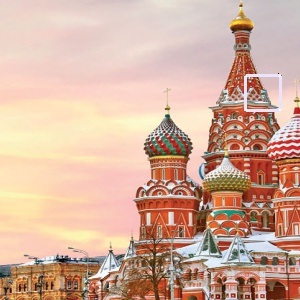square: (242, 72, 284, 113)
